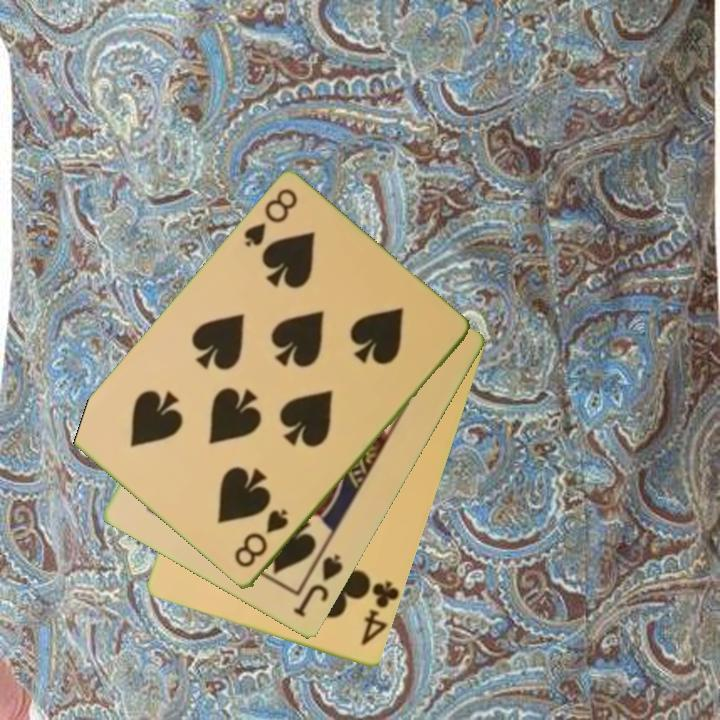4c: (357, 577, 401, 650)
8s: (231, 505, 292, 572), (240, 185, 301, 251)
Js: (289, 550, 346, 621)
